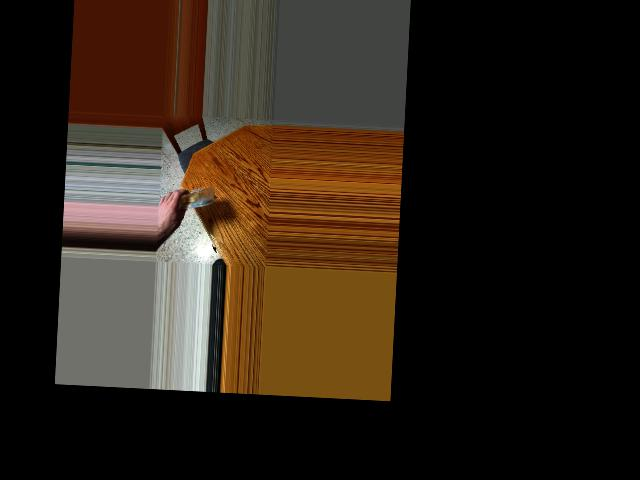cheese: (178, 185, 212, 217)
